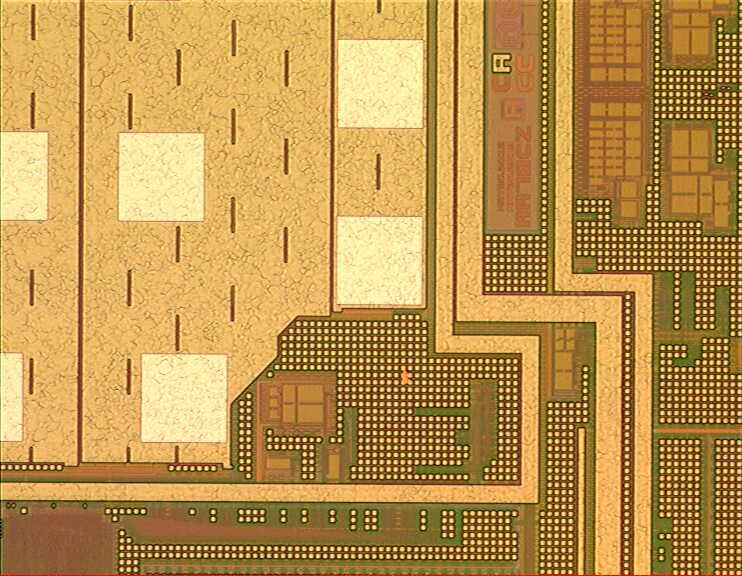BLOCK ETCH: (398, 368, 414, 392)
